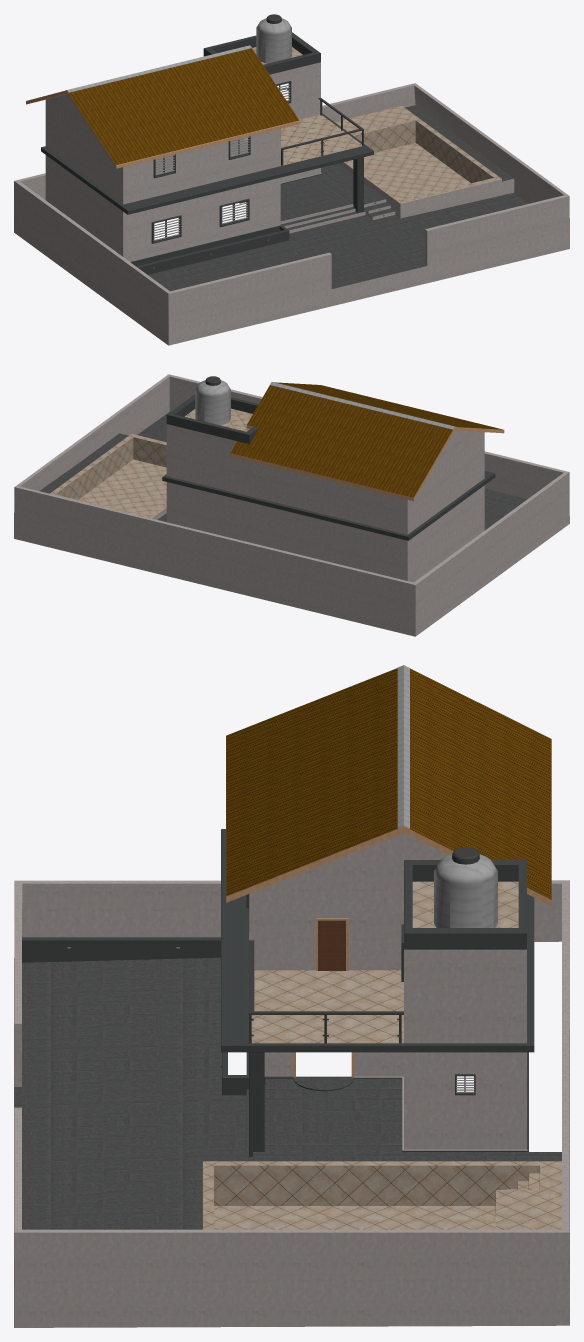
Rendered from bantaygabi-large-house.glb.
3 views of the same model, one above another, from view 1: azimuth 30°, elevation 25°; view 2: azimuth 150°, elevation 25°; view 3: azimuth 270°, elevation 25° (orthographic). The views are drawn at different scales.
Visible parts, largest first — view 1: LargeHouse_LOD0; view 2: LargeHouse_LOD0; view 3: LargeHouse_LOD0.
Boxes of the visible parts, <box> form: LargeHouse_LOD0: <box>14,14,569,345</box>; LargeHouse_LOD0: <box>14,374,569,636</box>; LargeHouse_LOD0: <box>14,665,569,1327</box>.
Bounding box in the file's own units: 30 × 12.95 × 20.
20 materials, 19 textured.
